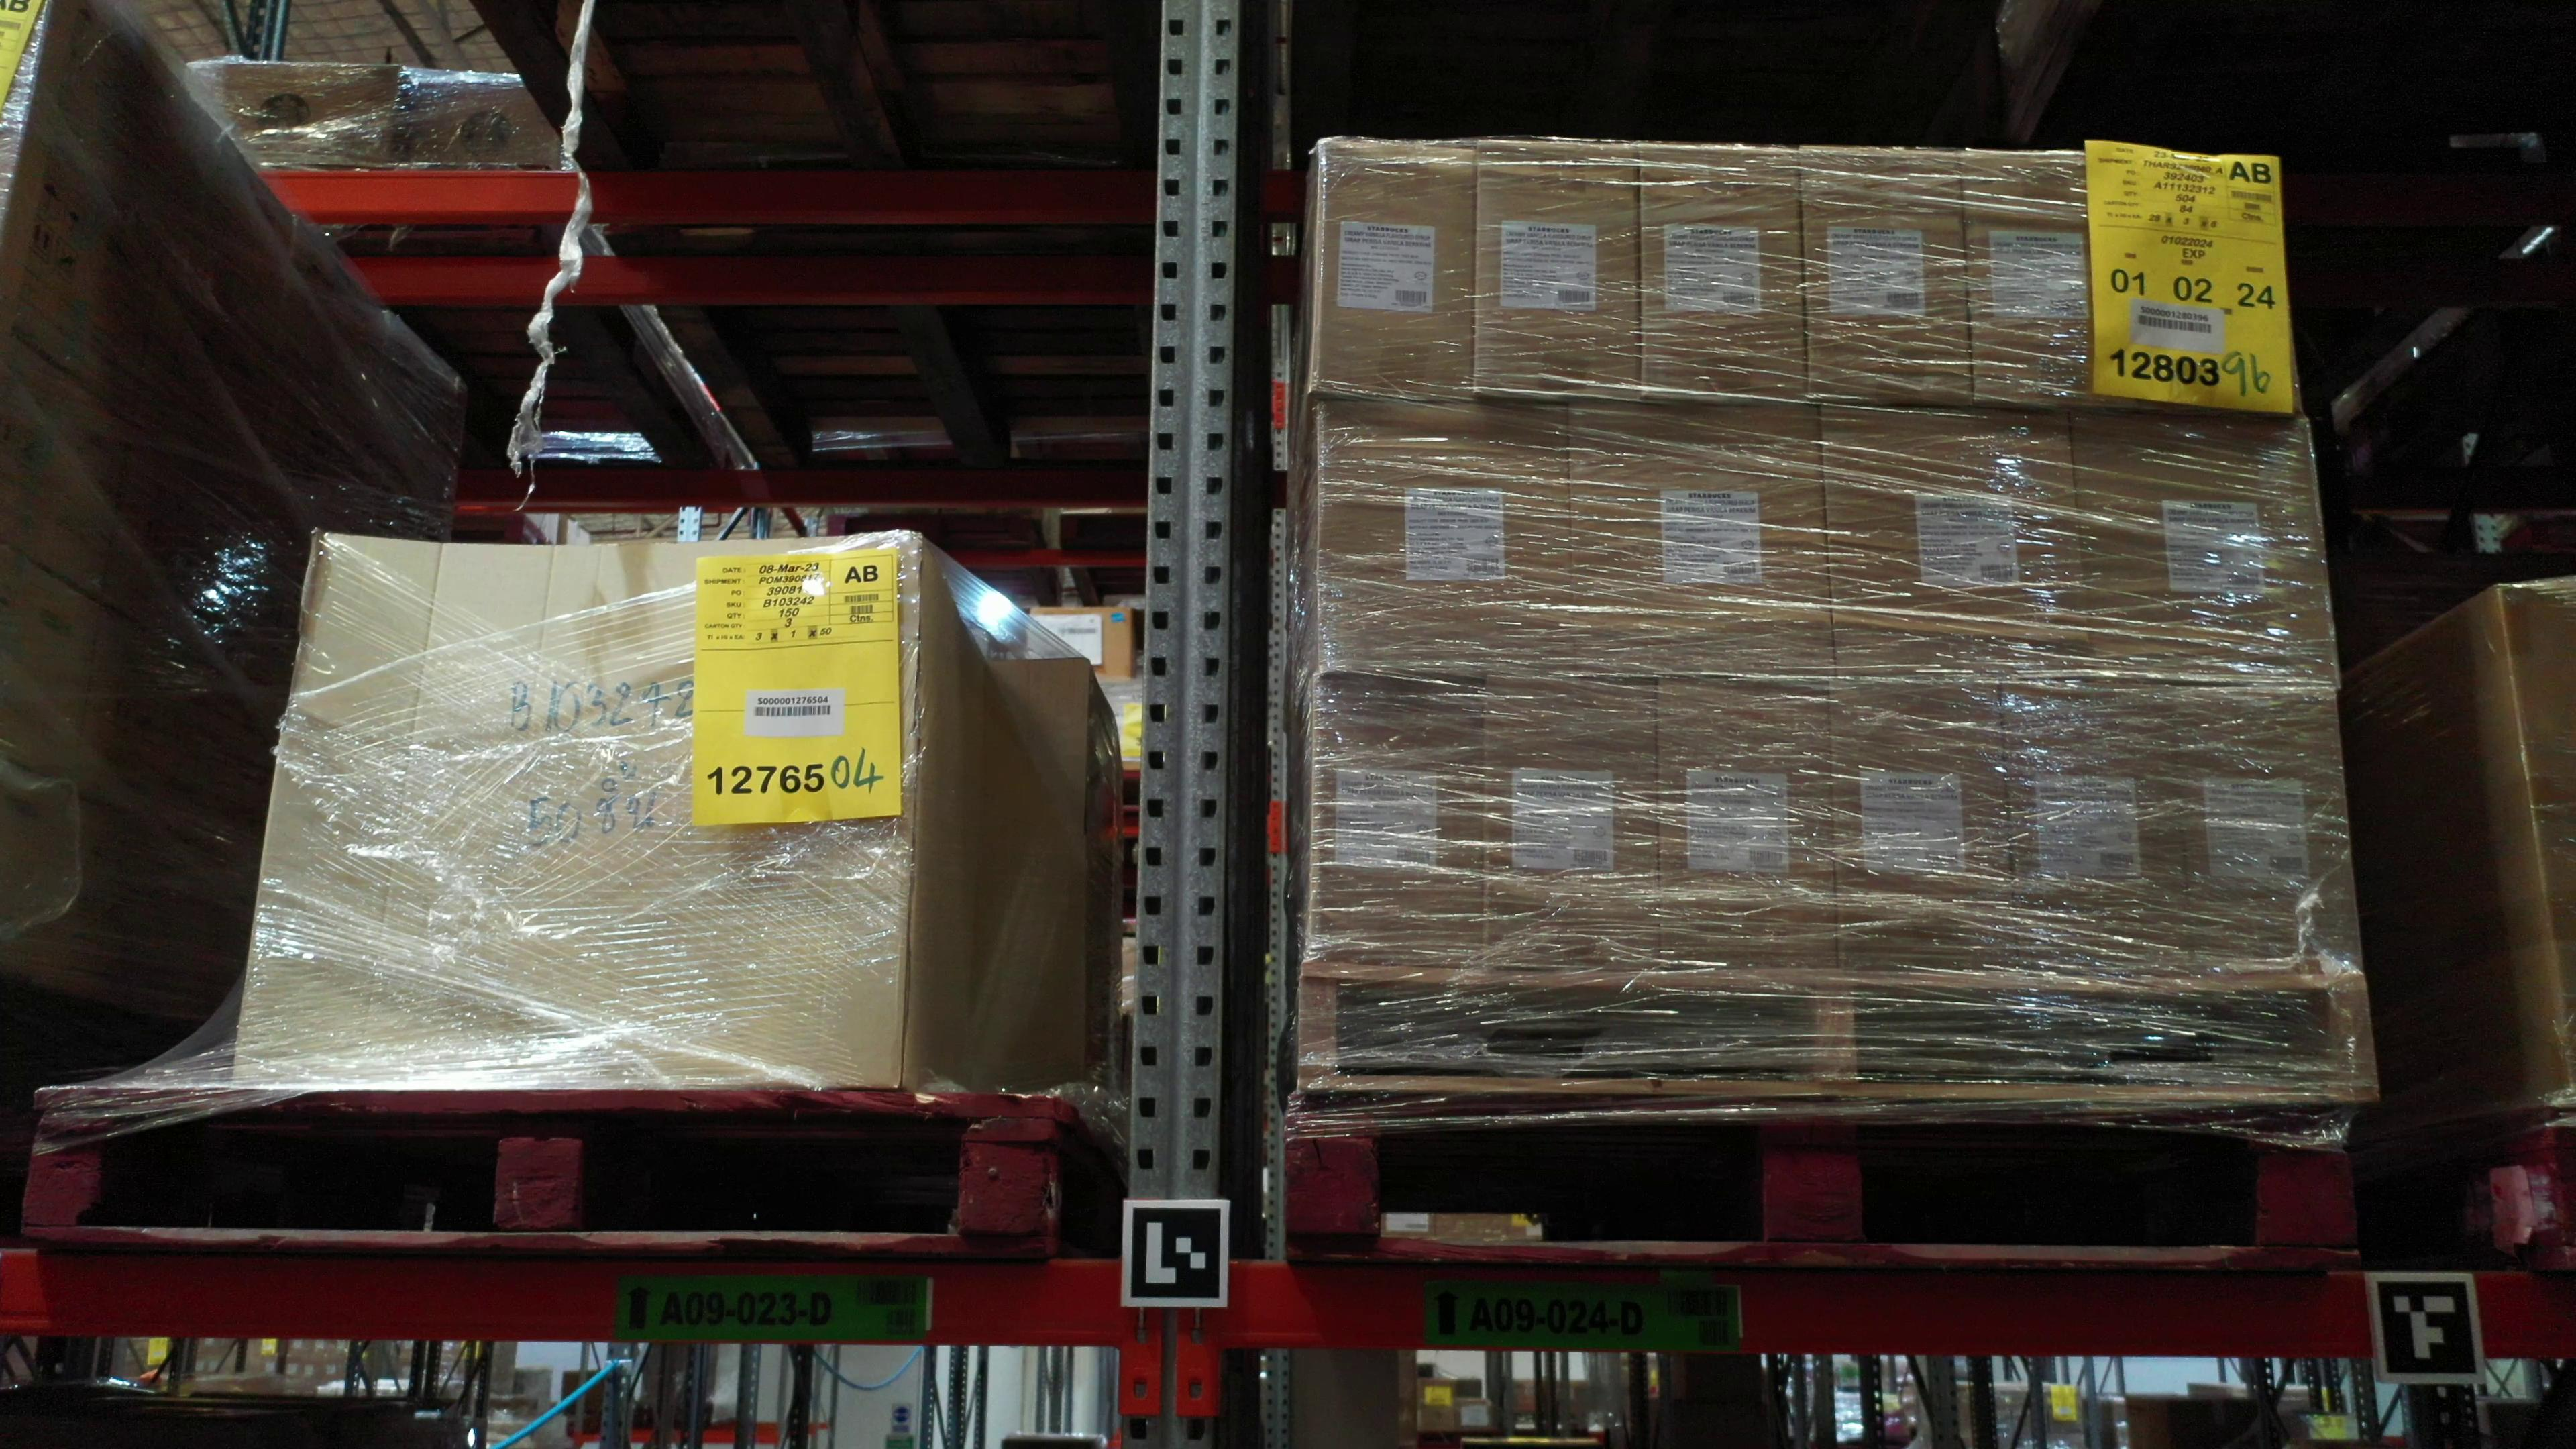-: (233, 532, 917, 1089), (1820, 407, 2098, 682), (1570, 405, 1836, 684), (2071, 411, 2337, 686), (1317, 402, 1578, 680), (2004, 684, 2205, 971), (2178, 684, 2366, 975), (1829, 686, 2017, 973), (1657, 684, 1840, 977), (1481, 682, 1662, 973), (1308, 680, 1487, 971), (1796, 146, 1974, 405), (2122, 156, 2299, 414), (1639, 143, 1811, 402), (1964, 150, 2135, 407), (1474, 139, 1642, 396), (1313, 141, 1476, 398)
